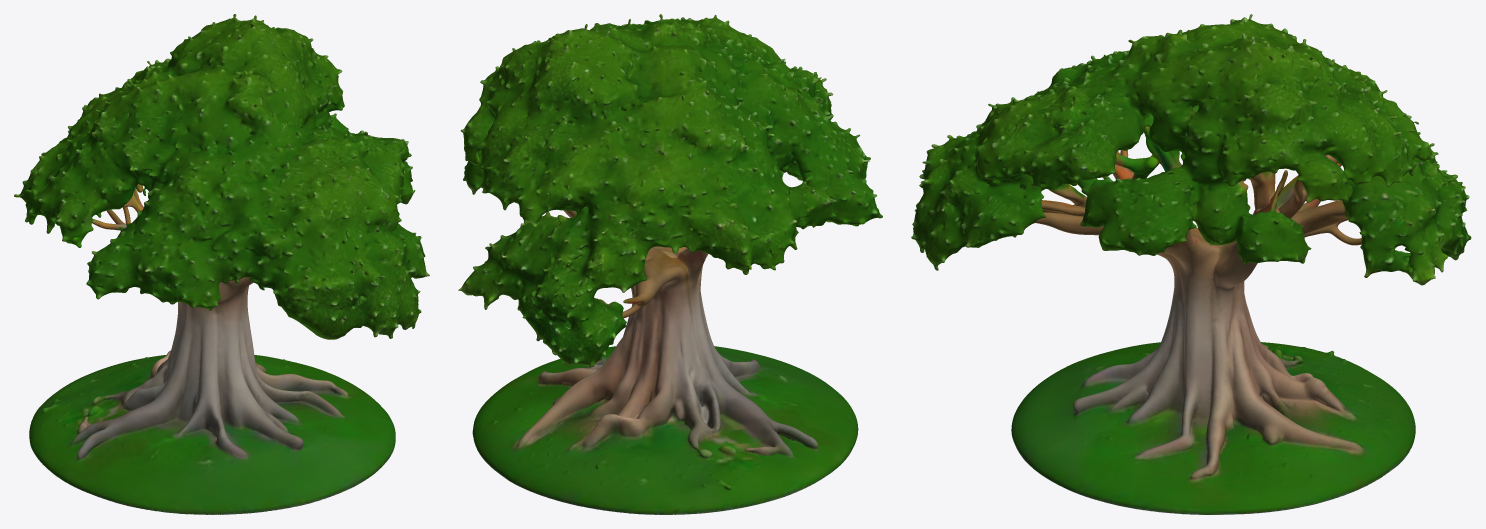
File: tree-1-c.glb
3 views of the same model, side by side, from view 1: azimuth 30°, elevation 25°; view 2: azimuth 150°, elevation 25°; view 3: azimuth 270°, elevation 25° (orthographic). The views are drawn at different scales.
Parts seen in each view (by area): view 1: tripo_node_aa7f21a6-2dac-4c84-9b54-4933945108ac; view 2: tripo_node_aa7f21a6-2dac-4c84-9b54-4933945108ac; view 3: tripo_node_aa7f21a6-2dac-4c84-9b54-4933945108ac.
Boxes of the visible parts, bbox=[...] form: tripo_node_aa7f21a6-2dac-4c84-9b54-4933945108ac: bbox=[14, 14, 429, 514]; tripo_node_aa7f21a6-2dac-4c84-9b54-4933945108ac: bbox=[458, 14, 882, 514]; tripo_node_aa7f21a6-2dac-4c84-9b54-4933945108ac: bbox=[911, 14, 1471, 514].
Bounding box in the file's own units: 0.7484 × 0.8386 × 1.
1 material, 1 textured.
